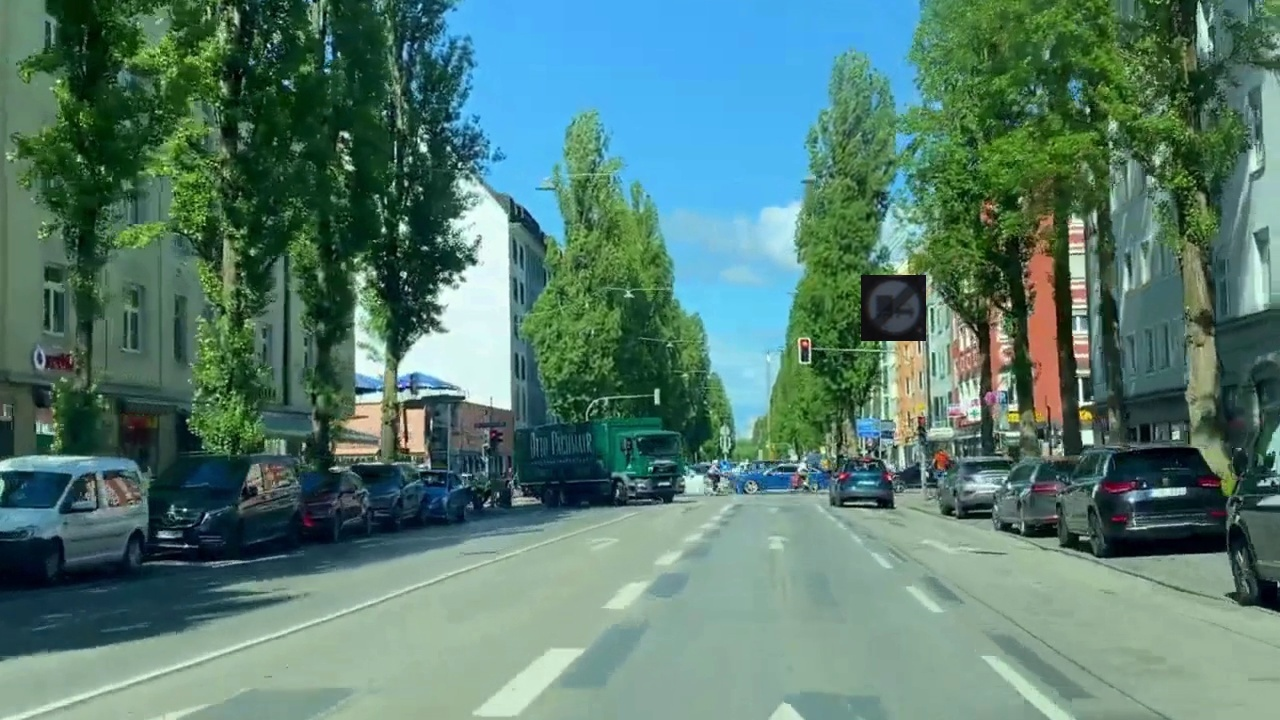End no pass >3.5t: (861, 275, 926, 341)
